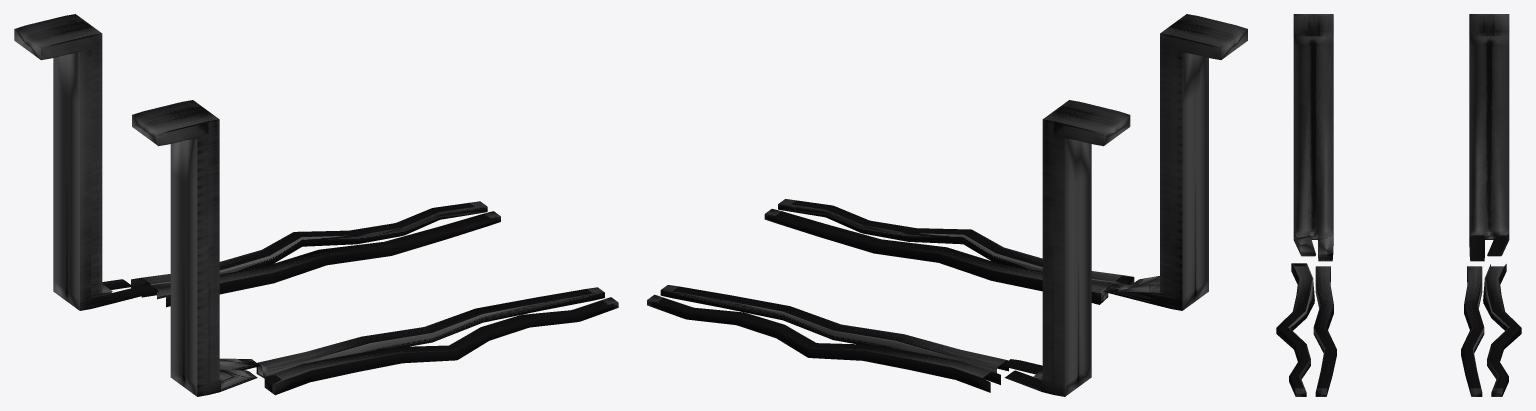
Rendered from vilka_slomana1.fbx.
3 views of the same model, side by side, from view 1: azimuth 30°, elevation 25°; view 2: azimuth 150°, elevation 25°; view 3: azimuth 270°, elevation 25° (orthographic). The views are drawn at different scales.
Parts seen in each view (by area): view 1: Cube.006, Cube.001; view 2: Cube.006, Cube.001; view 3: Cube.006, Cube.001.
Part boxes in pixels (x1,y1,x2,y2): Cube.006: [14, 14, 260, 396]; Cube.001: [131, 201, 618, 395]; Cube.006: [1001, 14, 1247, 396]; Cube.001: [647, 199, 1134, 392]; Cube.006: [1293, 14, 1509, 261]; Cube.001: [1276, 263, 1521, 396].
Size of the model in its own units: 53.75 by 32.22 by 33.06.
